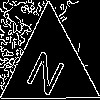N: (24, 41, 72, 99)
